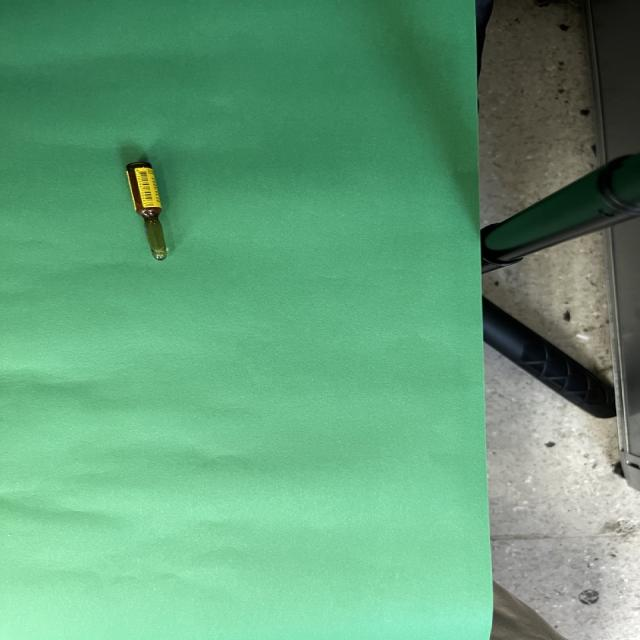Ampoules: (126, 162, 167, 260)
